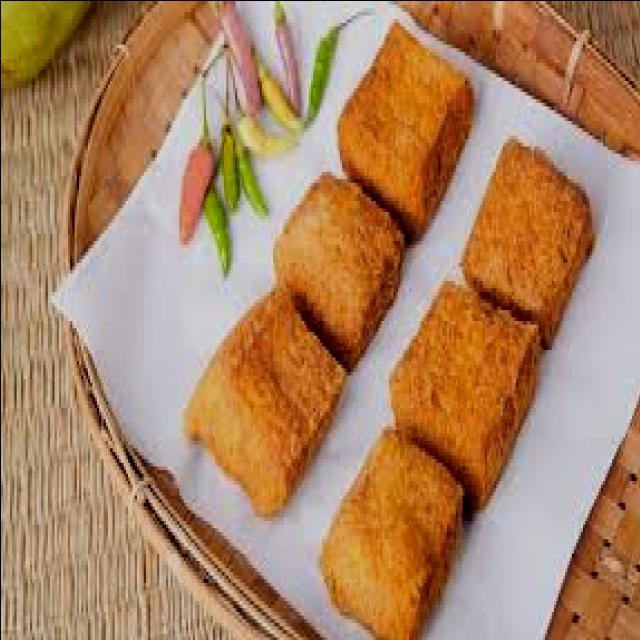tahu goreng: (181, 284, 348, 516), (388, 280, 542, 509), (317, 429, 466, 640), (334, 25, 475, 240), (459, 138, 593, 349), (272, 175, 406, 371)
